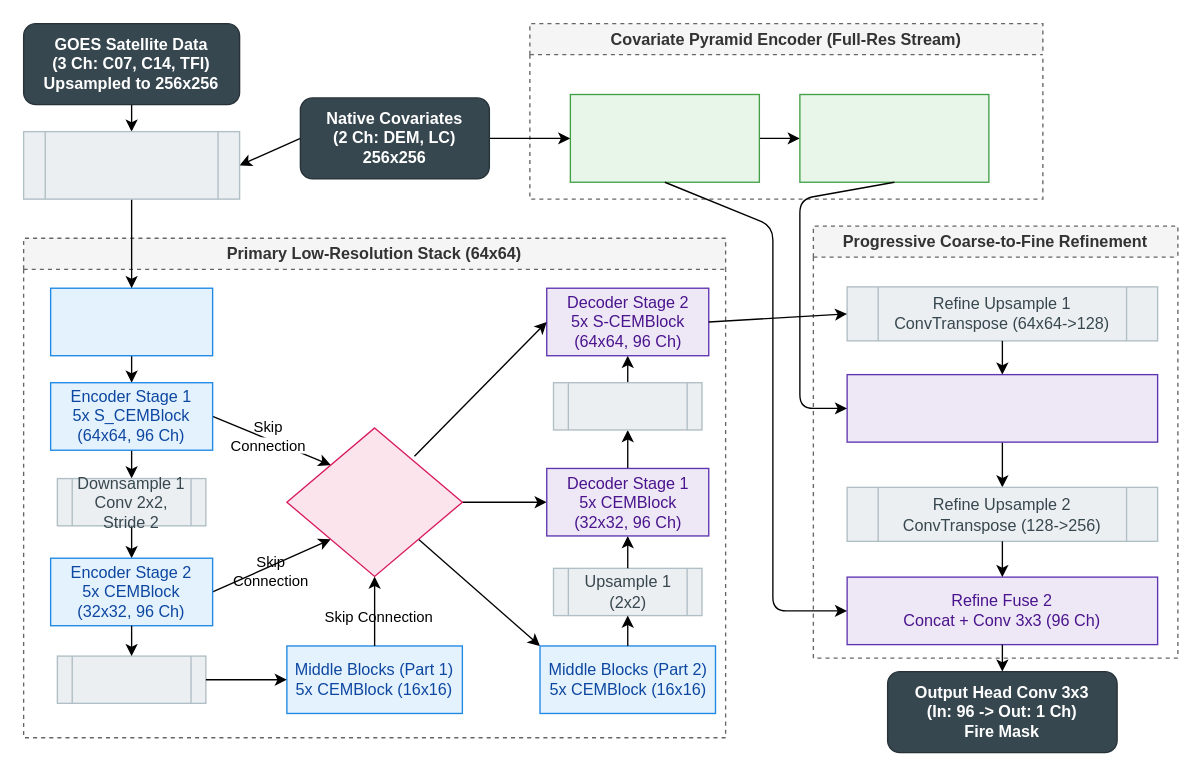
Image size: 1202x776. Some labels were removed from this diagram. Each missing label, with the centre of its shape:
"CIM (Cross-scale Interaction)" goes at [374,501].
"Concat & Downsample (1/4) Bilinear Interpolation" goes at [131,164].
"Down Stage 1 Stride-2 + WindowedSCEM (128x128, 32 Ch)" goes at [894,137].
"Downsample 2 Conv 2x2, Stride 2" goes at [131,679].
"Intro Conv 3x3 (In: 5 -> Out: 96 Ch)" goes at [131,321].
"Refine Fuse 1 Concat + Conv 3x3 (96 Ch)" goes at [1002,407].
"Stem Stage Conv 3x3 + WindowedSCEM (256x256, 32 Ch)" goes at [664,137].
"Upsample 2 (2x2)" goes at [627,405].
